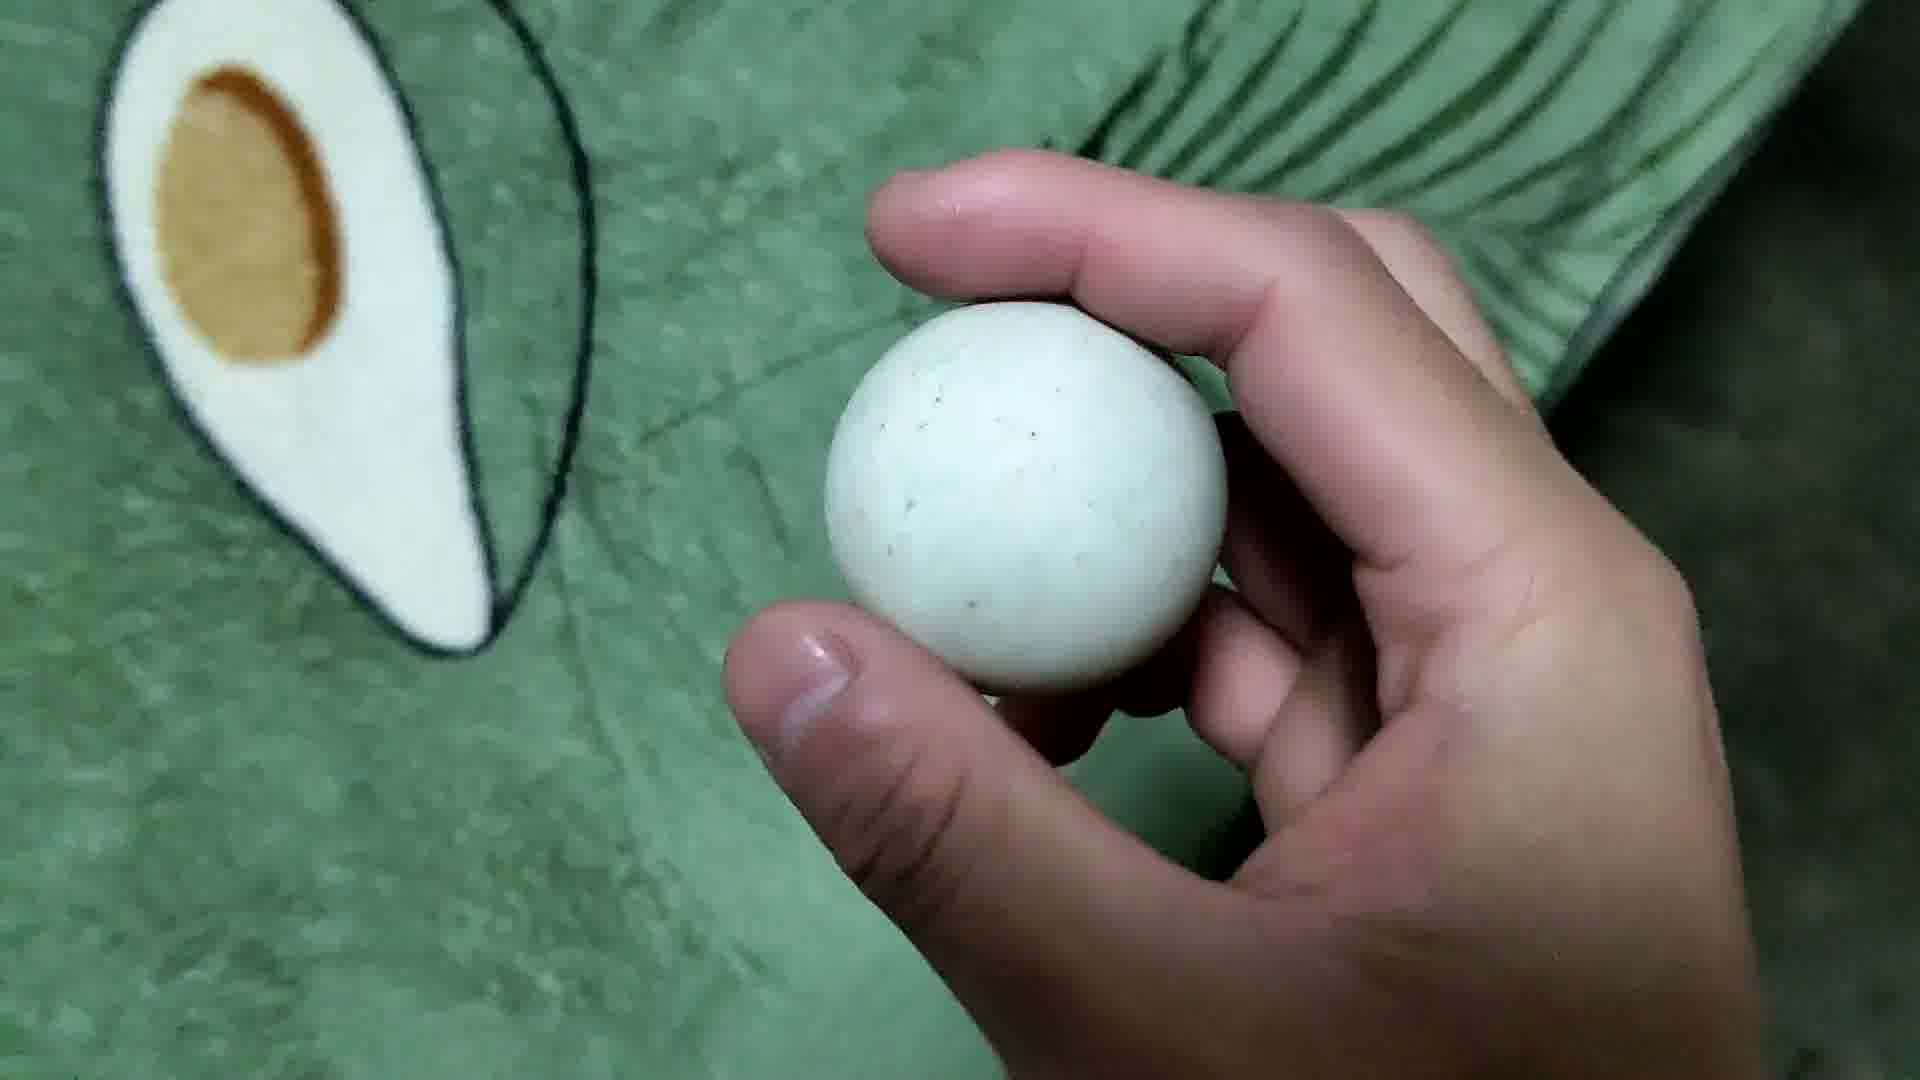Ball: (814, 295, 1226, 684)
